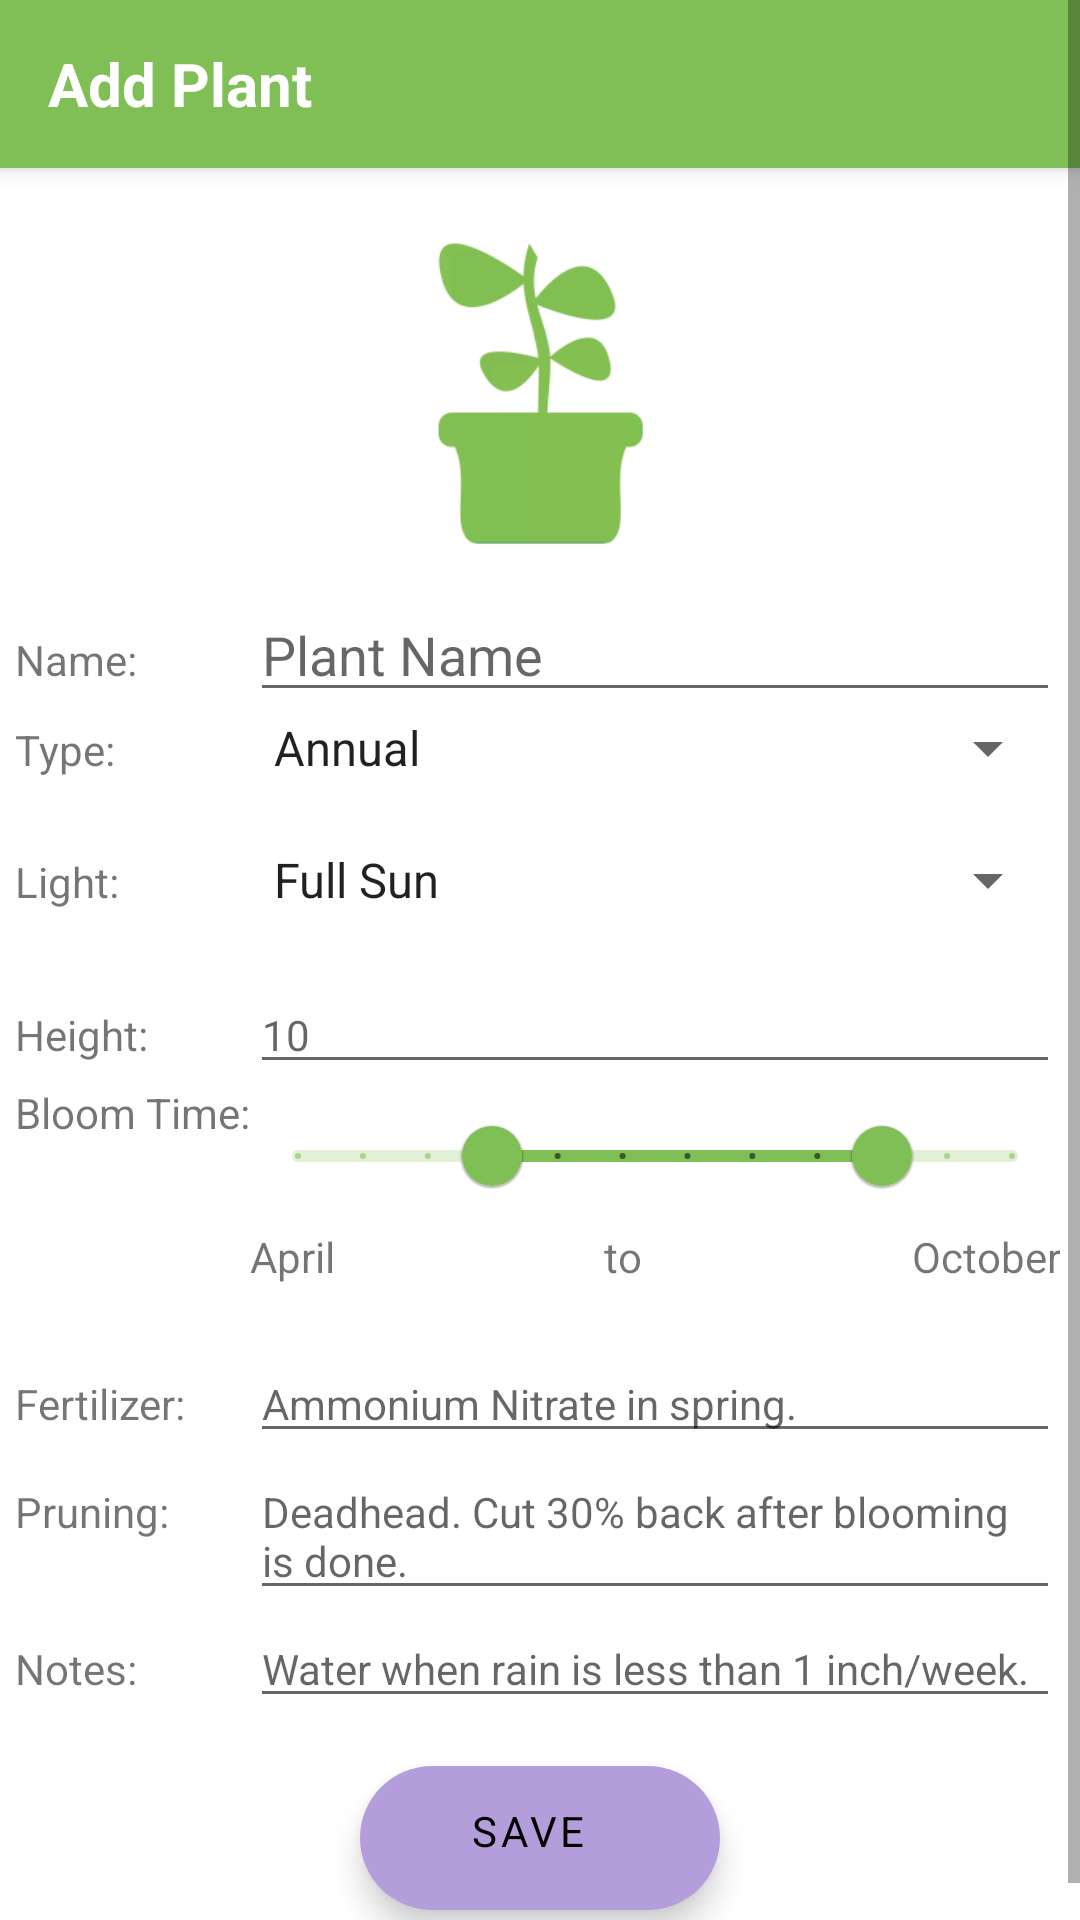

Screen size 1080px x 1920px. Icon name, then its box in pixels as (x1, y1, x2, y2):
A plant in a pot: (438, 243, 643, 544)
